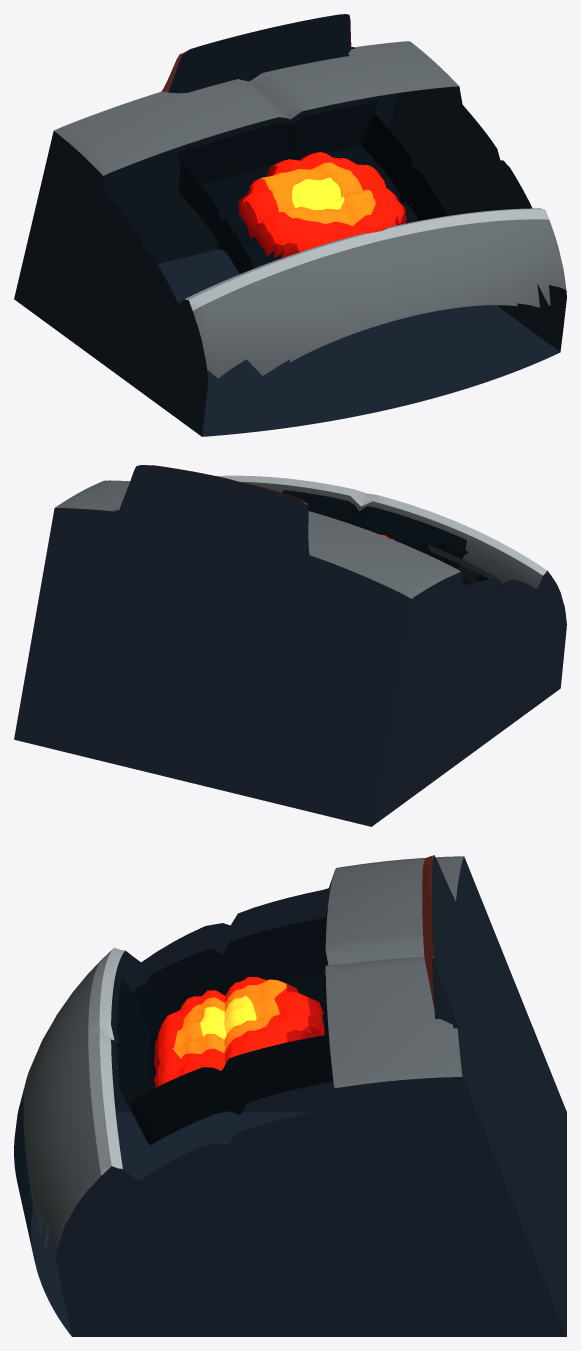
Rendered from armour_dome_9.glb.
3 views of the same model, one above another, from view 1: azimuth 30°, elevation 25°; view 2: azimuth 150°, elevation 25°; view 3: azimuth 270°, elevation 25° (orthographic). The views are drawn at different scales.
Visible parts, largest first — view 1: armour_dome_9; view 2: armour_dome_9; view 3: armour_dome_9.
Boxes of the visible parts, x1,y1,x2,y2 form: armour_dome_9: [14, 14, 566, 436]; armour_dome_9: [14, 465, 566, 826]; armour_dome_9: [14, 855, 566, 1336].
Size of the model in its own units: 24 by 16.76 by 24.96.
